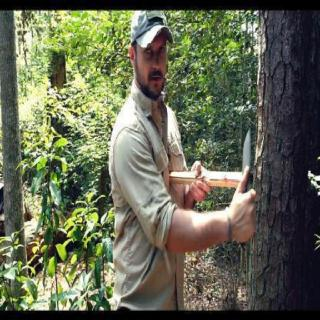knife: (237, 123, 259, 224)
